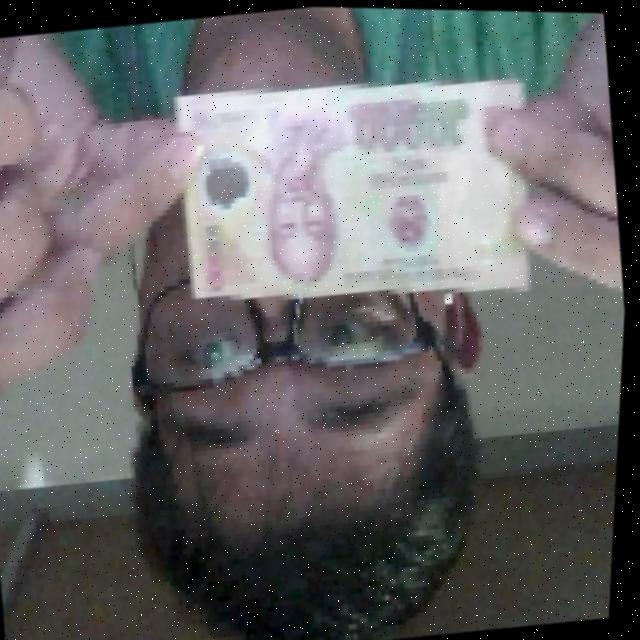10 000 VND: (160, 47, 555, 334)
